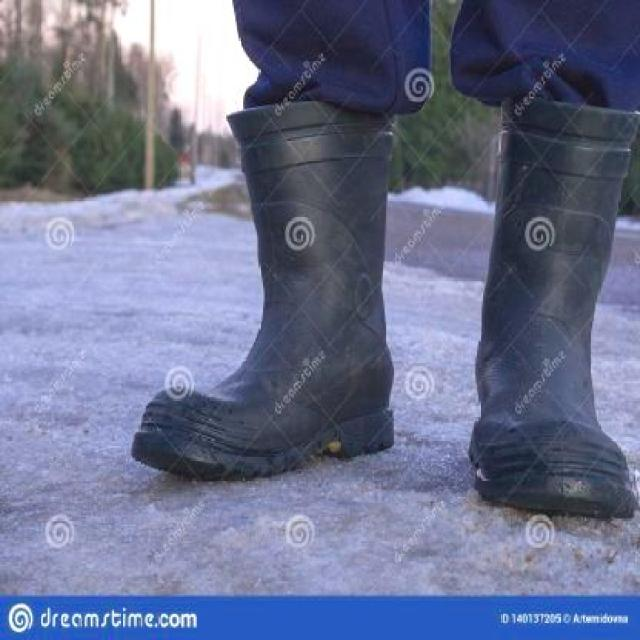shoes: (164, 120, 407, 466), (488, 114, 630, 512)
